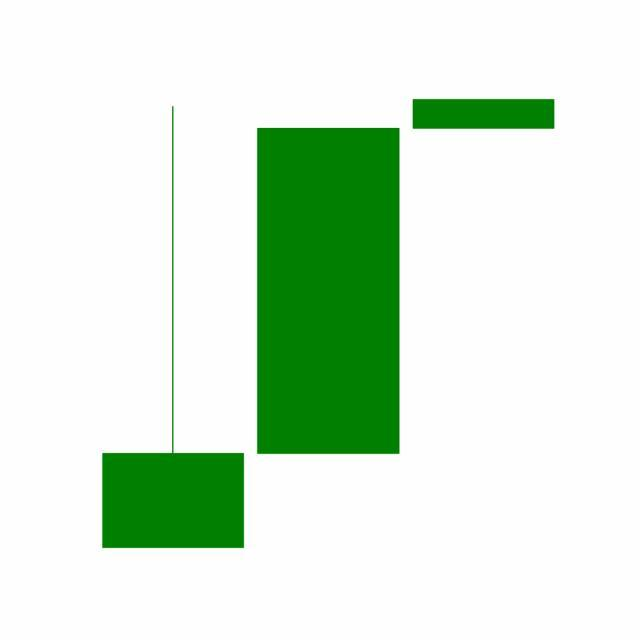Marubozu: (250, 125, 407, 458)
